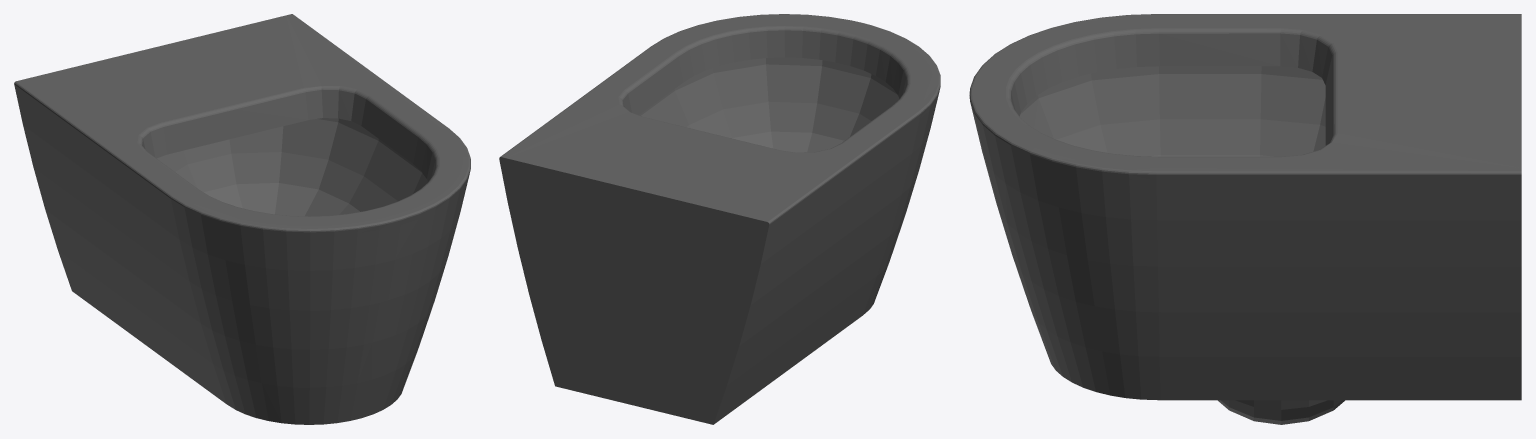
The model's file is AEC_46371.glb.
3 views of the same model, side by side, from view 1: azimuth 30°, elevation 25°; view 2: azimuth 150°, elevation 25°; view 3: azimuth 270°, elevation 25° (orthographic). The views are drawn at different scales.
Visible parts, largest first — view 1: 0; view 2: 0; view 3: 0.
Part boxes in pixels (x1=…): 0: x1=14, y1=14, x2=470, y2=424; 0: x1=499, y1=14, x2=940, y2=424; 0: x1=969, y1=14, x2=1521, y2=424.
Size of the model in its own units: 0.3729 by 0.3592 by 0.5465.
1 material, 1 textured.
